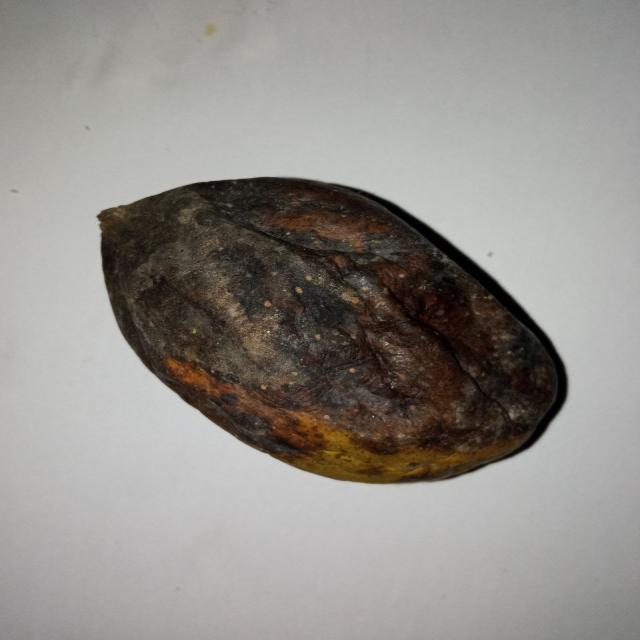rotten_mango: (94, 176, 556, 479)
